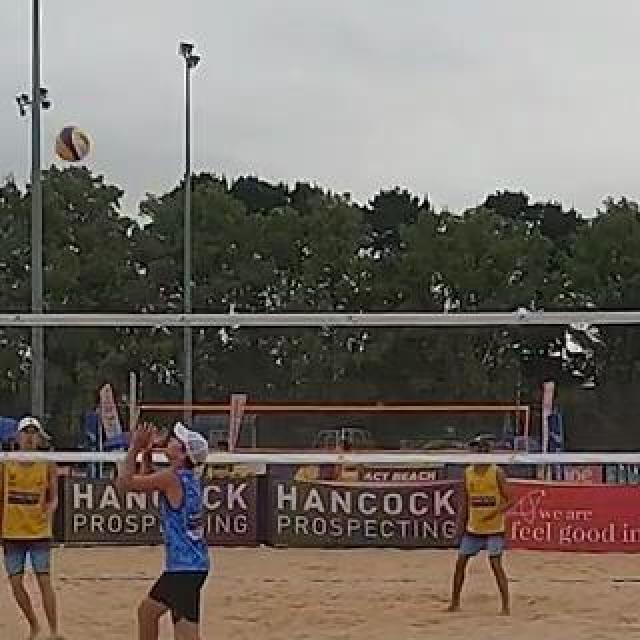volleyball: (57, 126, 91, 162)
